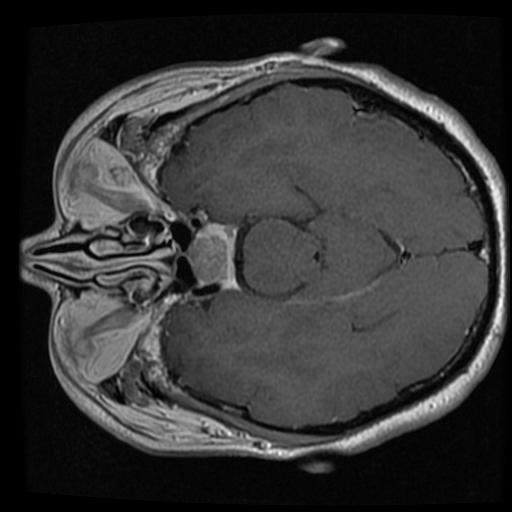pituitary tumour: (187, 225, 232, 285)
